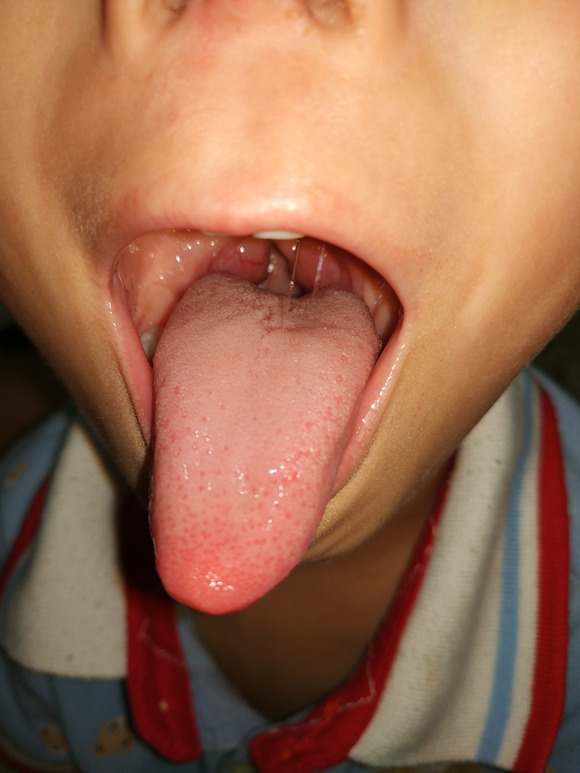baitaishe: (148, 271, 383, 615)
hongdianshe: (197, 468, 206, 479), (197, 483, 205, 492)
hongshe: (148, 271, 383, 615)
shenquao: (215, 271, 340, 315)
shoushe: (148, 271, 383, 615)
